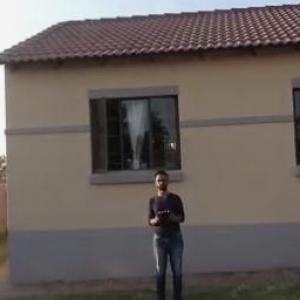follow: (144, 165, 195, 299)
